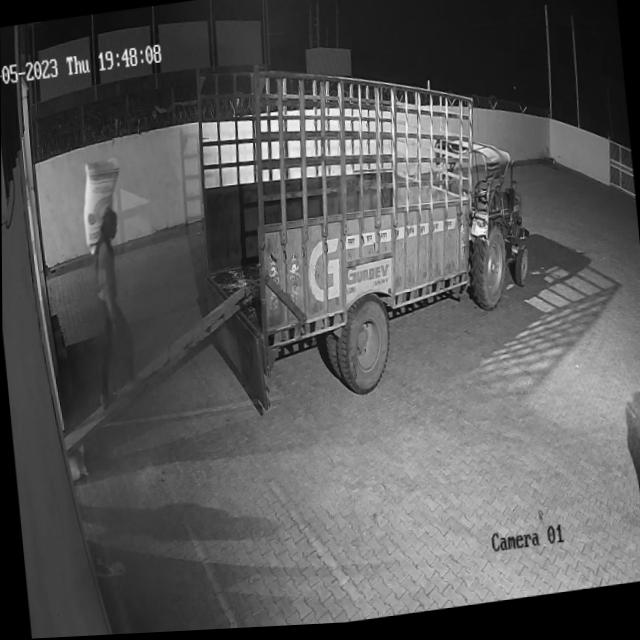sack: (77, 156, 125, 255)
